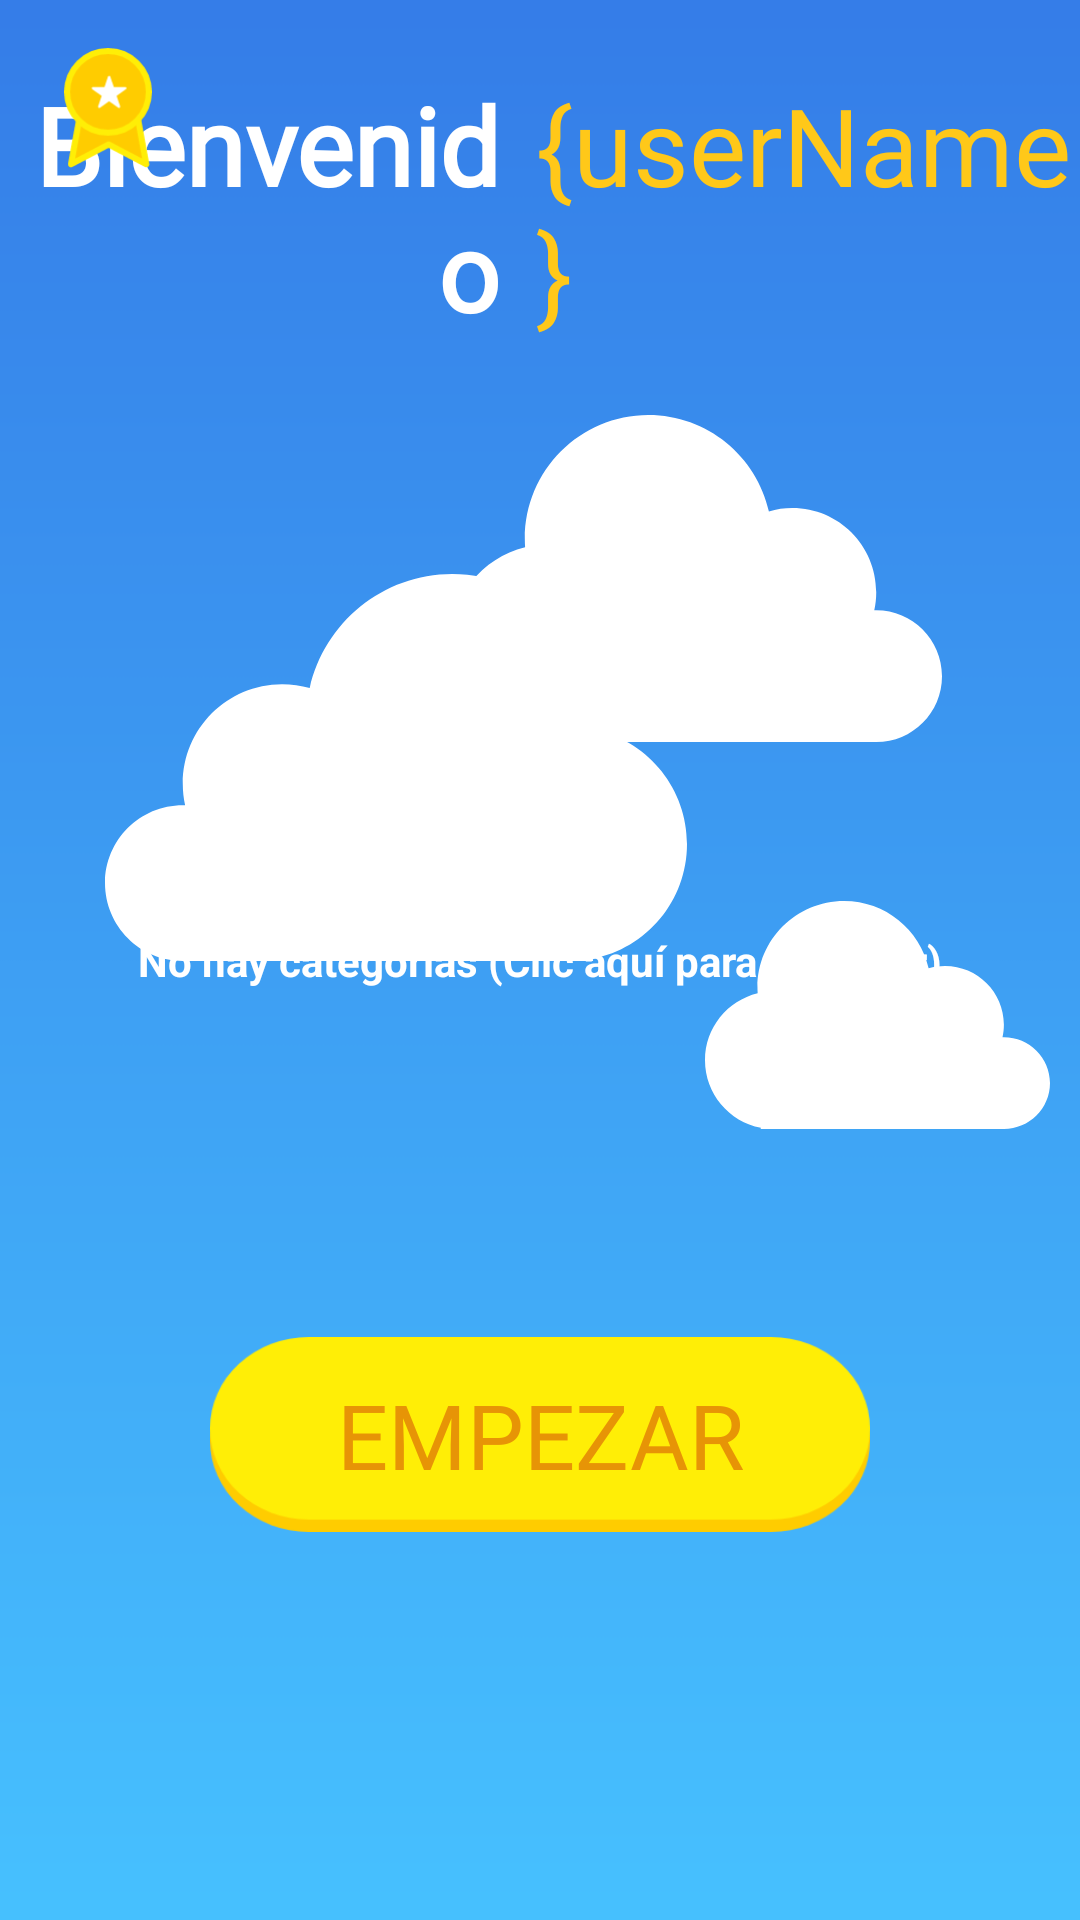

Screen size 1080 x 1920. Icon name, then its center in pixels as (x,y):
nube tres: (877,1015)
ranking: (108,108)
